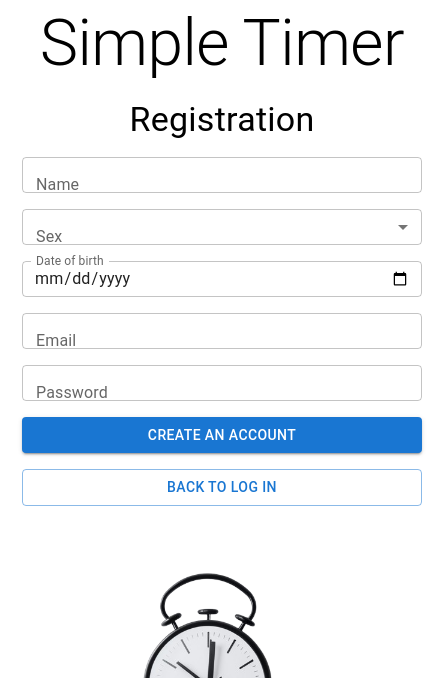
shows error if required fields are missing
The image size is (445, 678).
Click the button "Create an account" at {"x": 222, "y": 435}, box [22, 417, 422, 453]
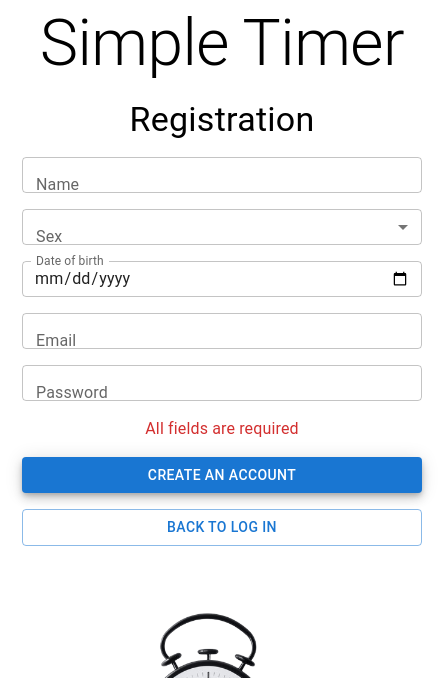
Now the text "All fields are required" is shown, box [145, 419, 299, 438]
